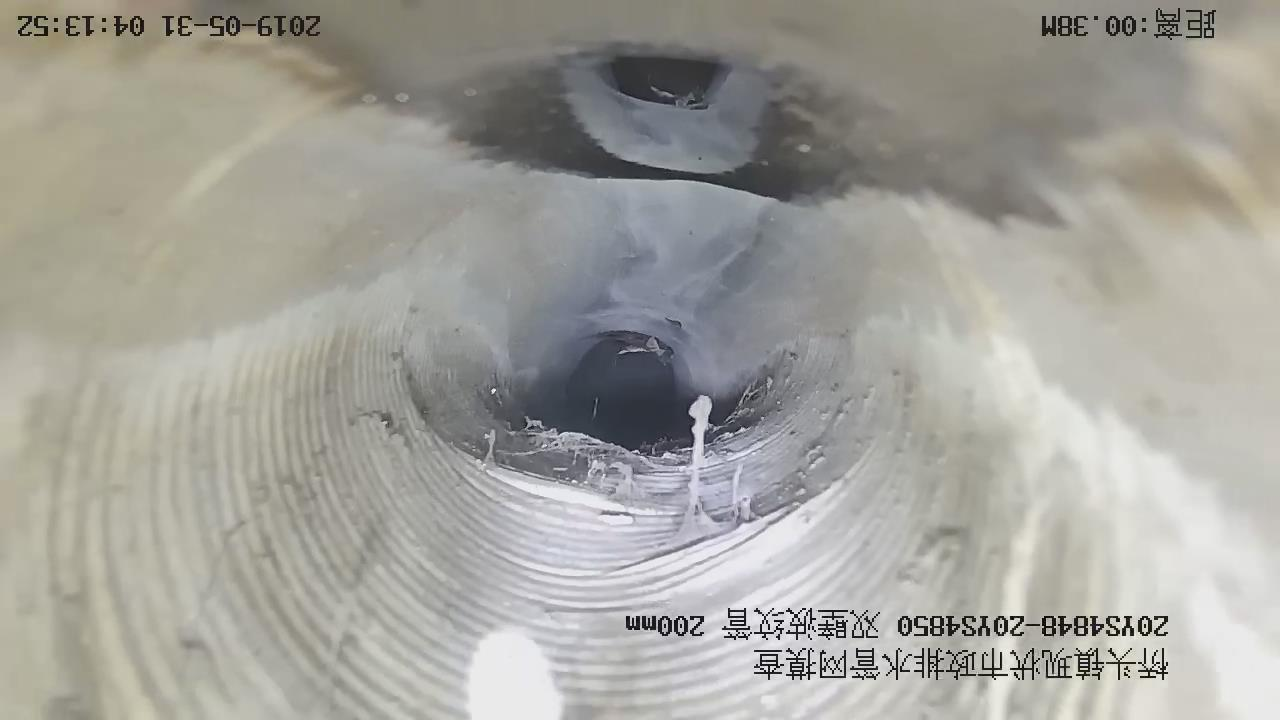BX: (325, 391, 862, 592)
